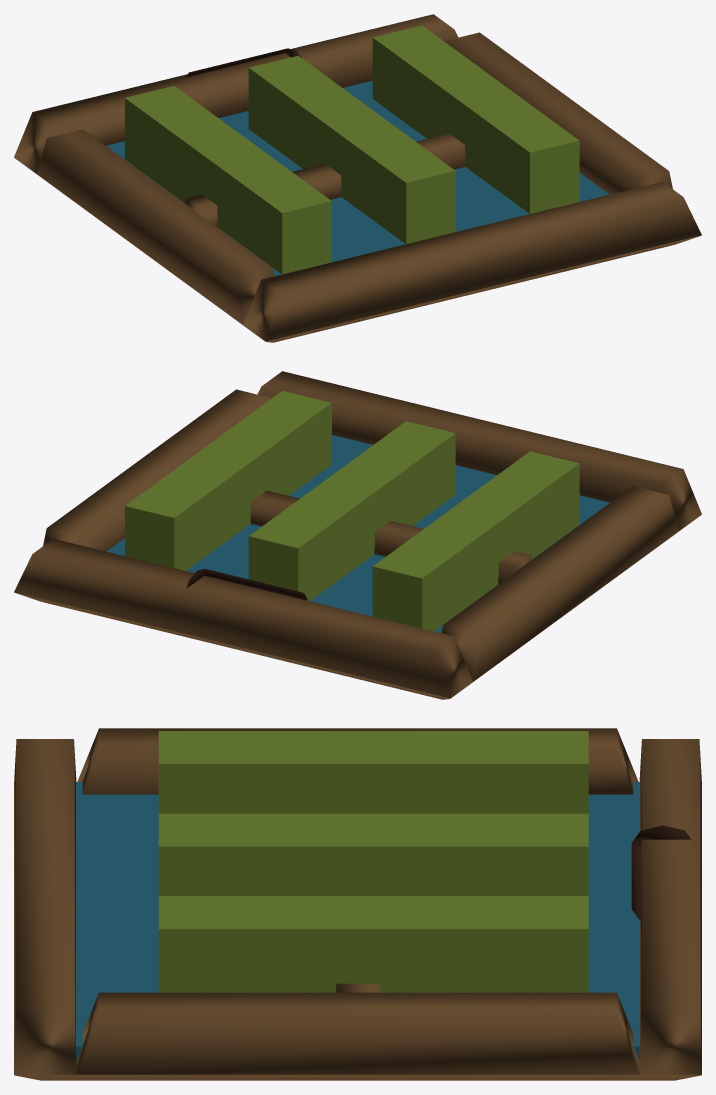
The model's file is R51_HAN_LUOYANG_RICE_PADDY_BUNDED_A.fbx.
The picture shows the model from 3 angles, top to bottom: view 1: azimuth 30°, elevation 25°; view 2: azimuth 150°, elevation 25°; view 3: azimuth 270°, elevation 25°; orthographic projection. The views are drawn at different scales.
Visible parts, largest first — view 1: bund_n, crop_c, crop_w, crop_e, bund_e, bund_s, bund_w, water, bund_mid, soil, inlet; view 2: bund_s, crop_e, crop_w, crop_c, bund_e, bund_n, bund_w, water, bund_mid, soil, inlet; view 3: bund_w, crop_w, crop_e, crop_c, water, bund_n, bund_s, bund_e, soil, inlet.
Part boxes in pixels (bbox=[...]): bund_n: bbox=[243, 182, 701, 341]; crop_c: bbox=[248, 55, 455, 244]; crop_w: bbox=[372, 25, 579, 213]; crop_e: bbox=[125, 86, 331, 274]; bund_e: bbox=[37, 129, 274, 324]; bund_s: bbox=[14, 14, 458, 173]; bund_w: bbox=[444, 32, 672, 194]; water: bbox=[106, 80, 609, 276]; bund_mid: bbox=[184, 133, 465, 227]; soil: bbox=[14, 157, 701, 342]; inlet: bbox=[186, 48, 302, 101]; bund_s: bbox=[14, 539, 472, 698]; crop_e: bbox=[372, 451, 579, 631]; crop_w: bbox=[125, 391, 331, 570]; crop_c: bbox=[248, 421, 455, 601]; bund_e: bbox=[441, 486, 678, 681]; bund_n: bbox=[257, 371, 701, 530]; bund_w: bbox=[43, 389, 271, 551]; water: bbox=[106, 435, 609, 633]; bund_mid: bbox=[250, 490, 531, 584]; soil: bbox=[14, 514, 701, 699]; inlet: bbox=[186, 568, 307, 600]; bund_w: bbox=[76, 992, 639, 1074]; crop_w: bbox=[158, 896, 588, 992]; crop_e: bbox=[158, 731, 588, 813]; crop_c: bbox=[158, 813, 588, 895]; water: bbox=[76, 782, 639, 1060]; bund_n: bbox=[14, 739, 76, 1074]; bund_s: bbox=[639, 739, 701, 1074]; bund_e: bbox=[77, 728, 638, 794]; soil: bbox=[14, 1074, 701, 1080]; inlet: bbox=[631, 825, 691, 921].
Size of the model in its own units: 88 by 16.5 by 88.
